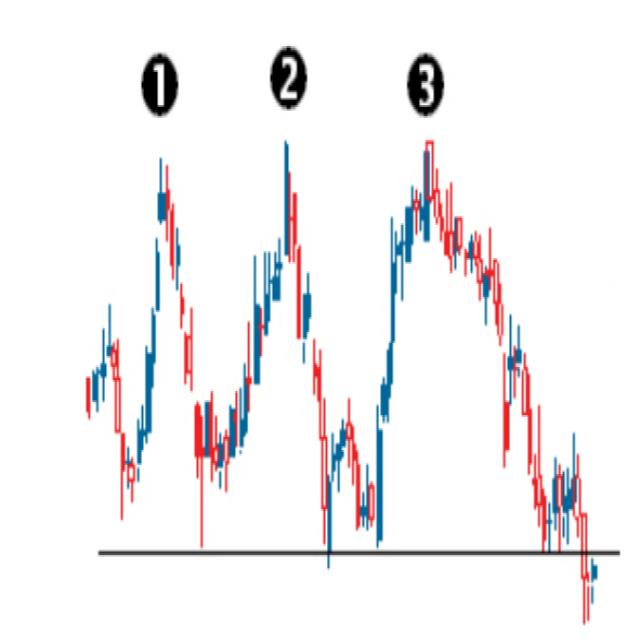Triple-Top: (108, 126, 568, 555)
